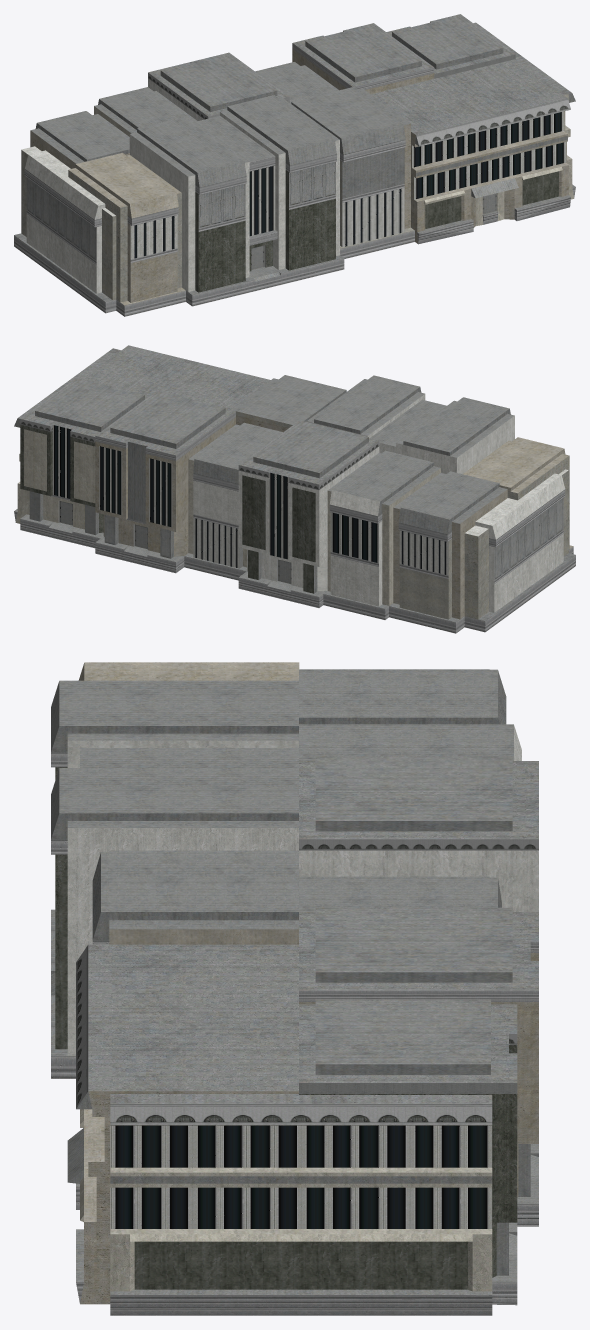
File: thm_corl_imprv_building_block_64x32_s02_l1.fbx
3 views of the same model, one above another, from view 1: azimuth 30°, elevation 25°; view 2: azimuth 150°, elevation 25°; view 3: azimuth 270°, elevation 25° (orthographic). The views are drawn at different scales.
Visible parts, largest first — view 1: mesh_node; view 2: mesh_node; view 3: mesh_node.
Boxes of the visible parts, <box> form: mesh_node: <box>14,14,575,316</box>; mesh_node: <box>14,345,575,633</box>; mesh_node: <box>51,662,538,1315</box>.
Size of the model in its own units: 65.11 by 17.39 by 29.5.
